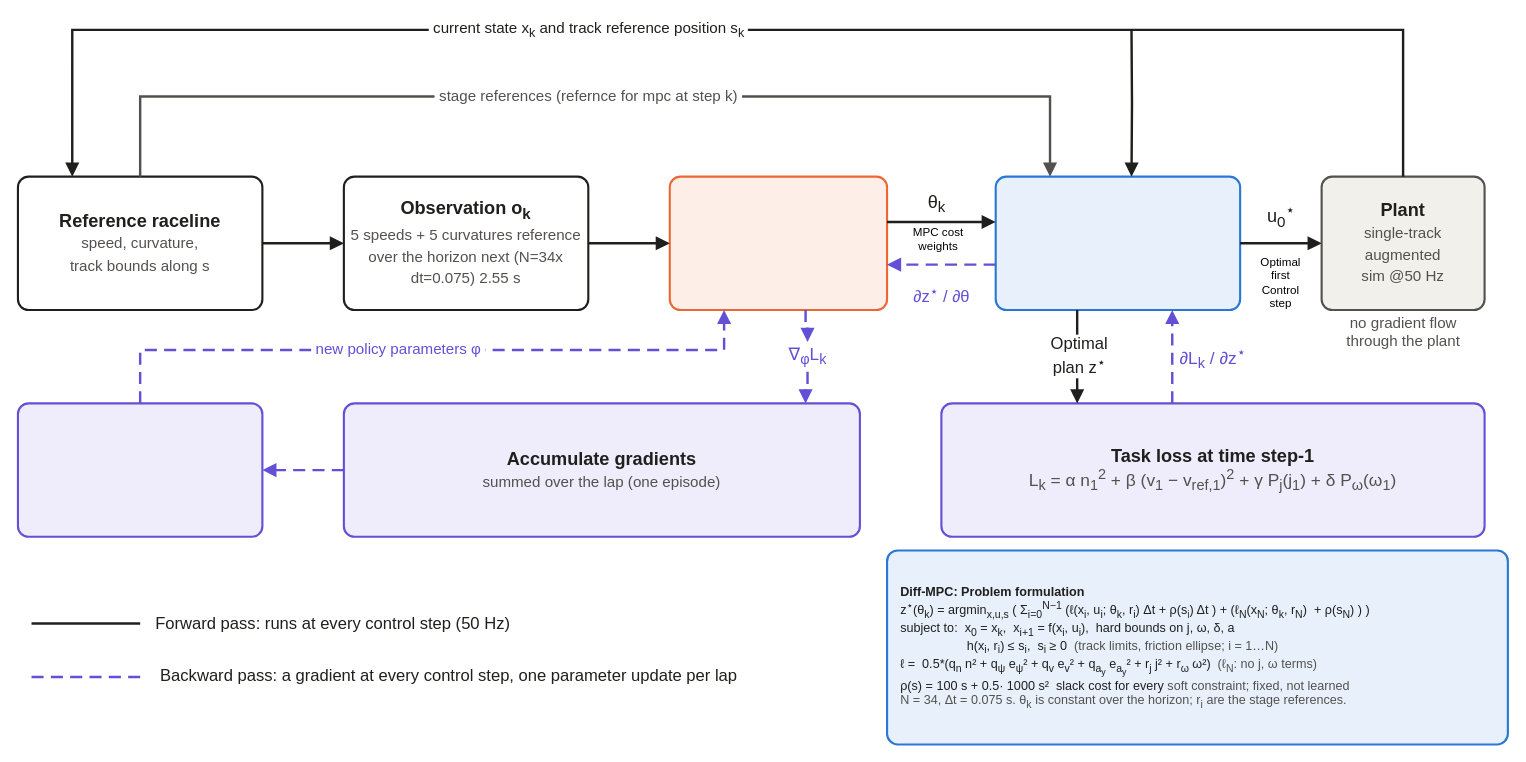
The diagram is 1526 pixels wide and 762 high, and some of its shapes have lost their labels. The shapes that lost their labels are listed below. From the top down, each one's box as (x1, y1, x2, y2) in pixels, then its label:
(668, 175, 888, 311): Policy π φ 10 → 128 → 128 → 6 → softplus activation-output
(994, 175, 1241, 311): Diff-MPC acados SQP-RTI + leap-c 34 time-steps × 0.075s
(16, 402, 263, 537): Adam update at lap end: mean, clip ±0.1, step
